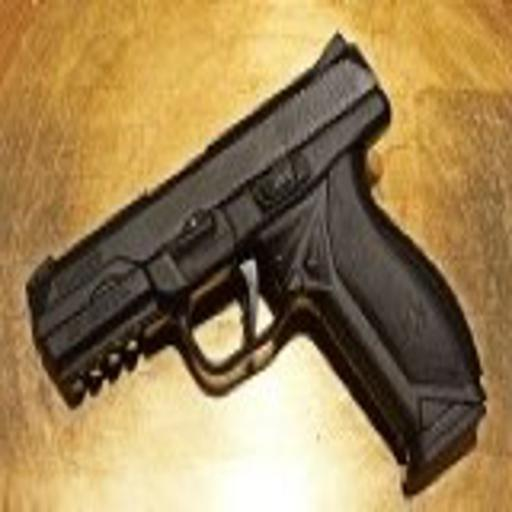Handgun: (24, 28, 485, 498)
